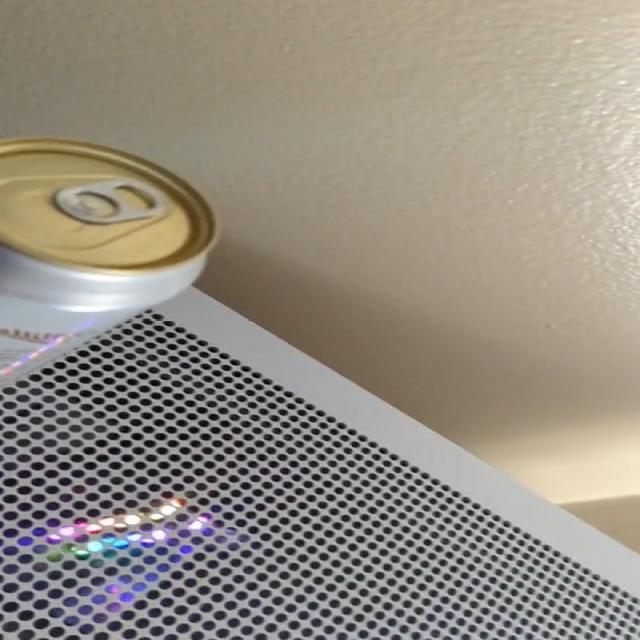metal: (2, 295, 142, 382)
